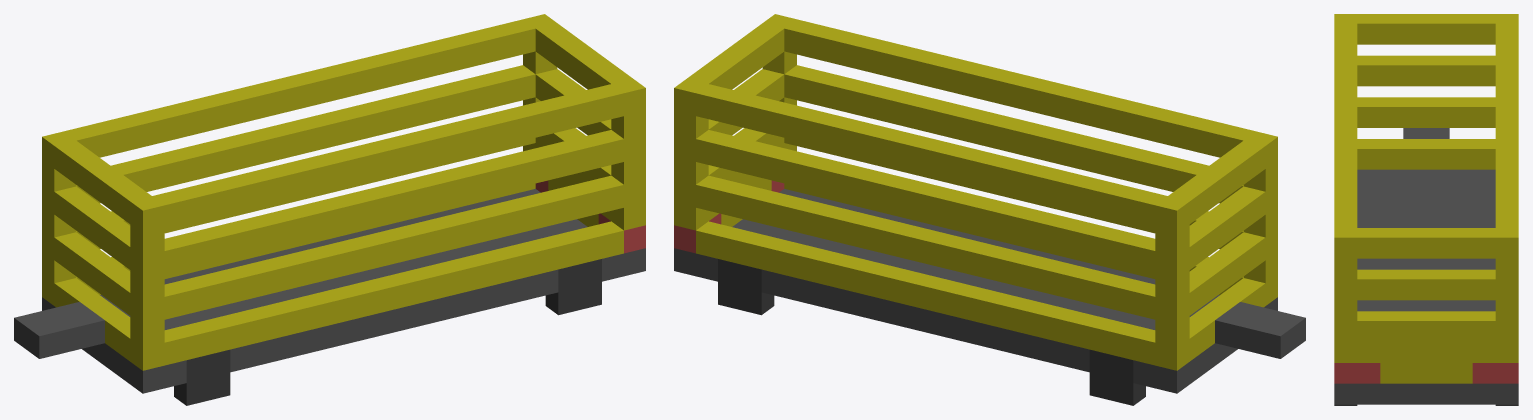
The model's file is tractor-trailer-v2-yellow.gltf.
3 renders of one model, left to right at view 1: azimuth 30°, elevation 25°; view 2: azimuth 150°, elevation 25°; view 3: azimuth 270°, elevation 25°, orthographic. The views are drawn at different scales.
Parts seen in each view (by area): view 1: model, wheels; view 2: model, wheels; view 3: model.
Boxes of the visible parts, x1,y1,x2,y2 form: model: [14, 14, 645, 405]; wheels: [174, 259, 601, 404]; model: [674, 14, 1305, 405]; wheels: [718, 261, 1145, 405]; model: [1334, 14, 1518, 405].
Bounding box in the file's own units: 2.6 × 0.9 × 0.8.
Materials: 2 (2 with a texture image).
